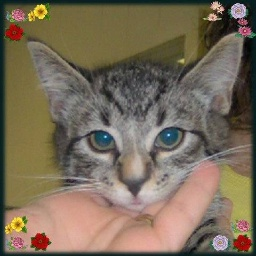cat: (22, 17, 233, 243)
